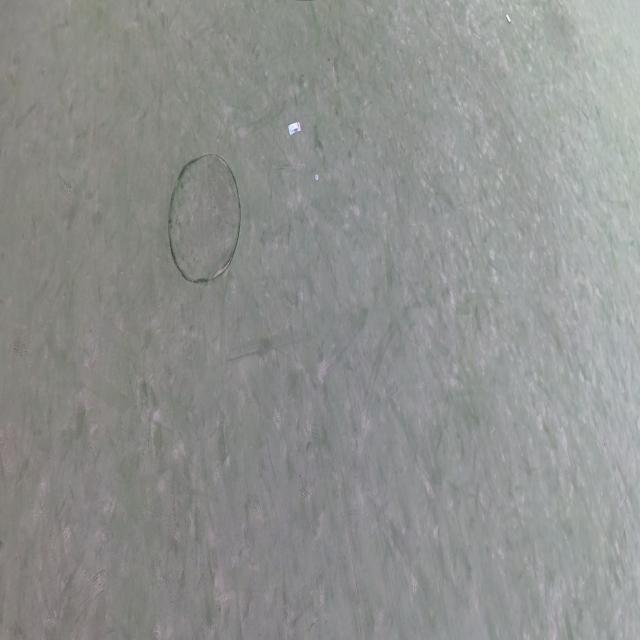rubbish: (287, 121, 301, 138), (506, 14, 511, 22), (315, 174, 318, 181)
